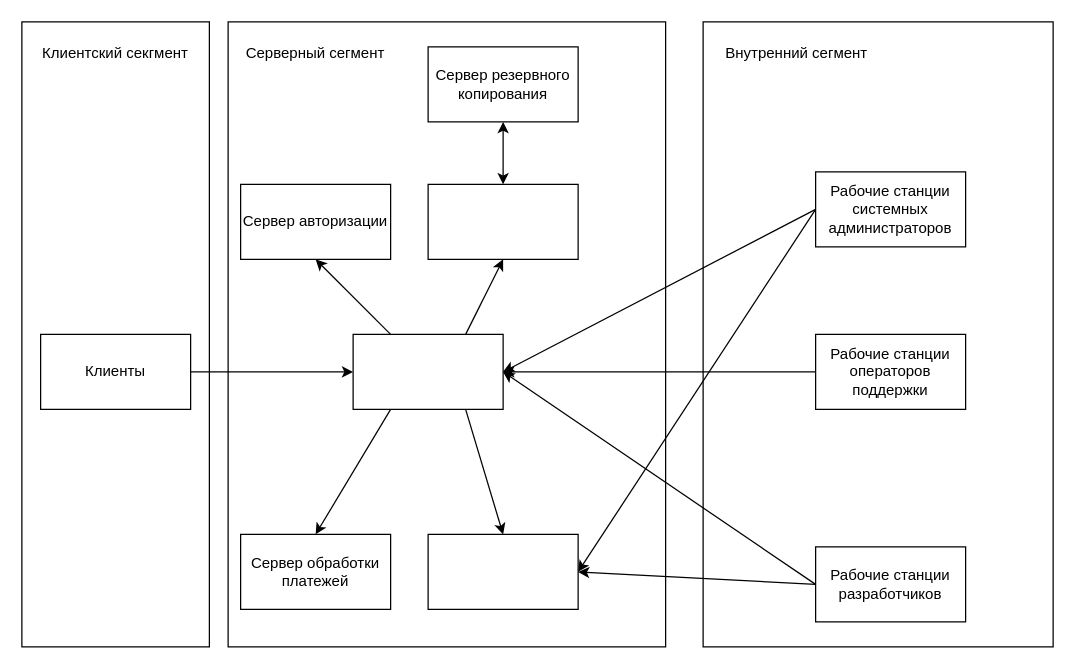
Some shapes in this 1075 by 669 pixel diagram are drawn without their labels. Each missing label, with the centre of its shape:
"База данных" goes at (502,221).
"Веб-сервер" goes at (427,371).
"Тестовый сервер" goes at (502,571).
